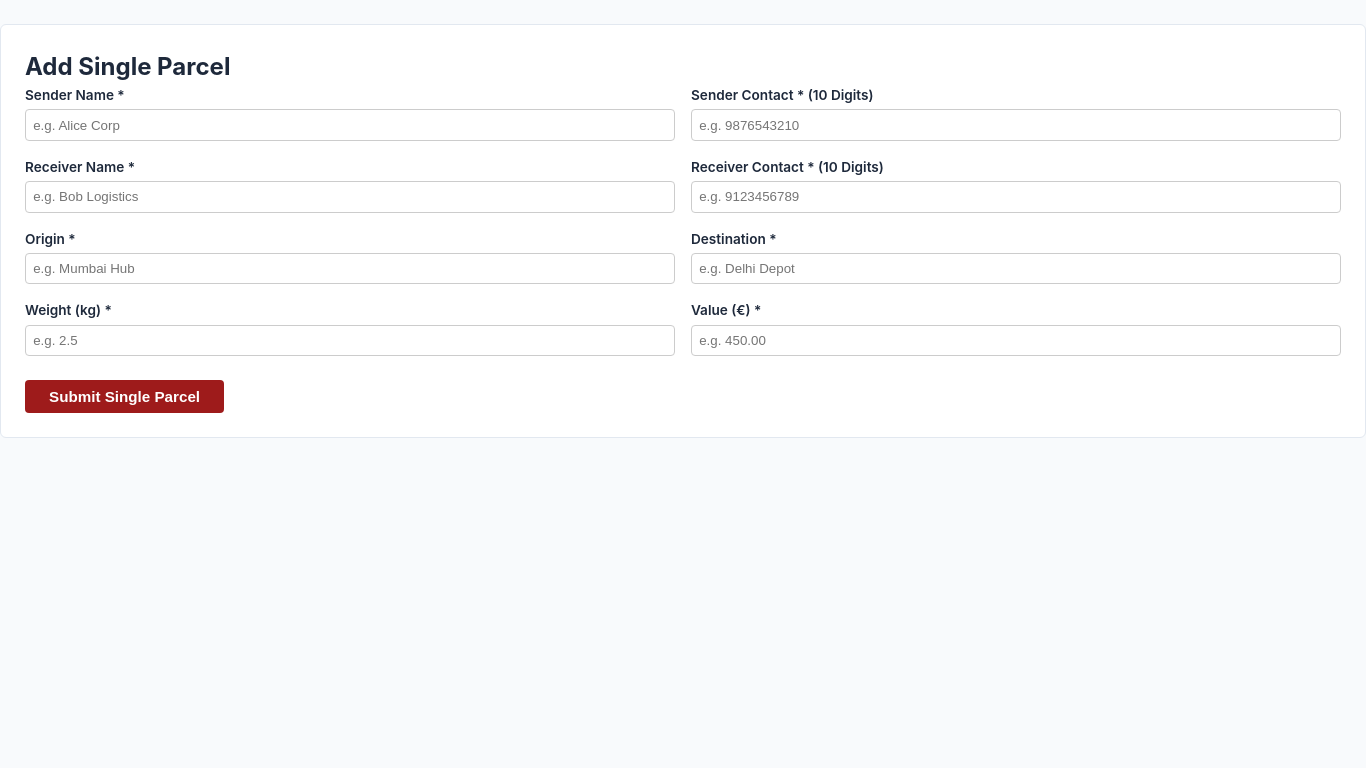
Test: Single Parcel Upload Component › displays validation error when missing required fields
This screenshot has width=1366, height=768.
Click the button "Submit Single Parcel": (125, 397) [25,380,224,413]
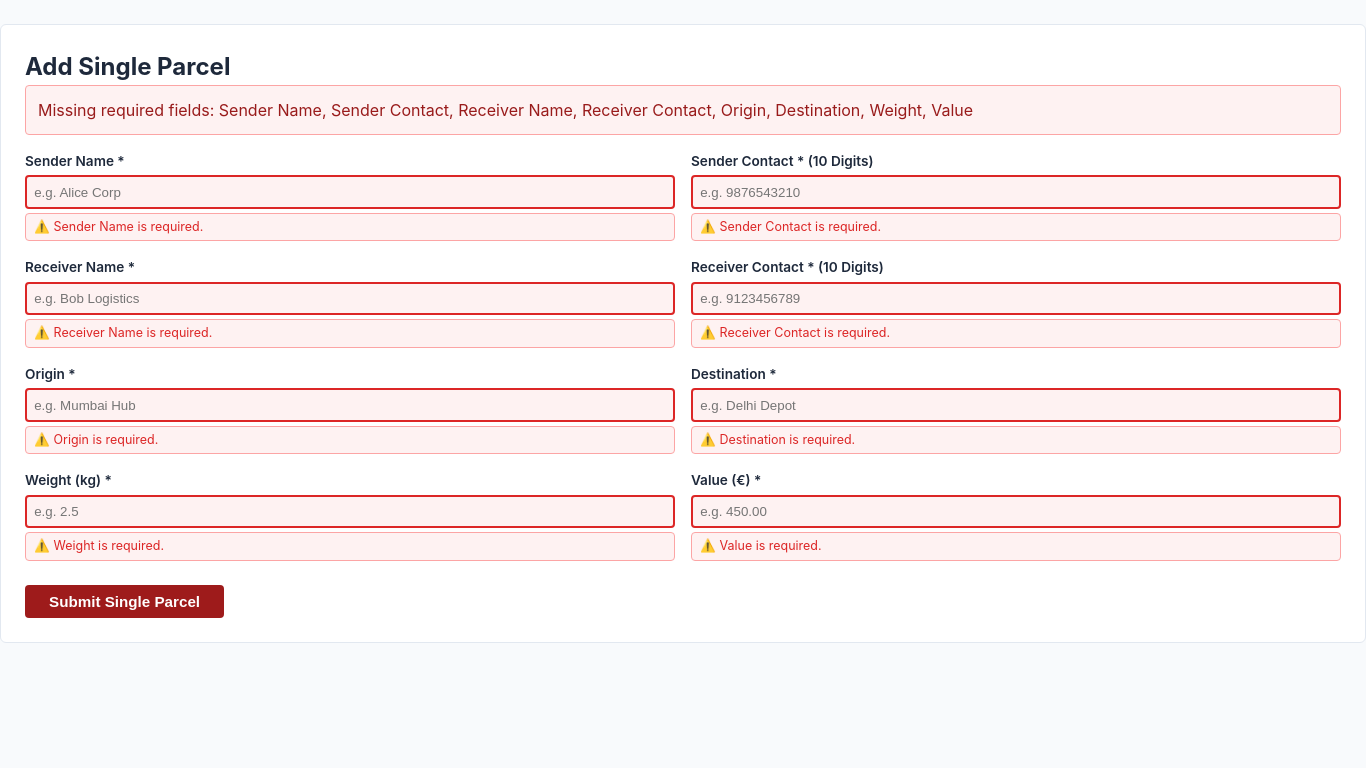
Expected: the text "Missing required fields" is shown, [38,100,973,120]
